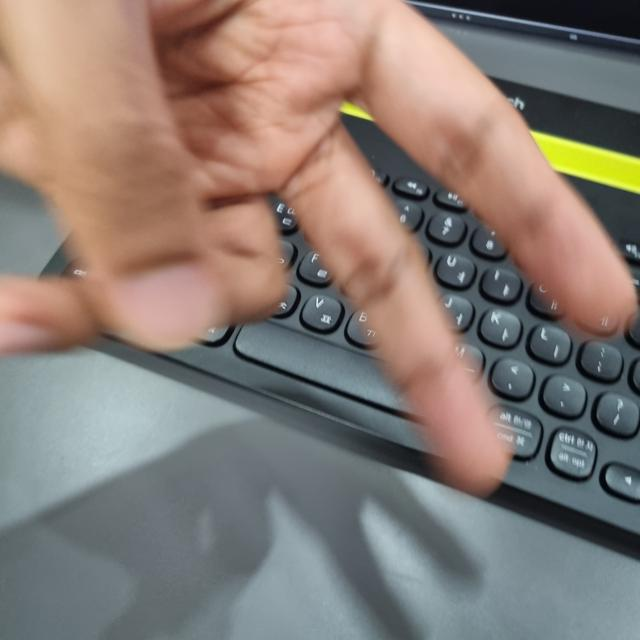Scissors: (0, 1, 630, 488)
